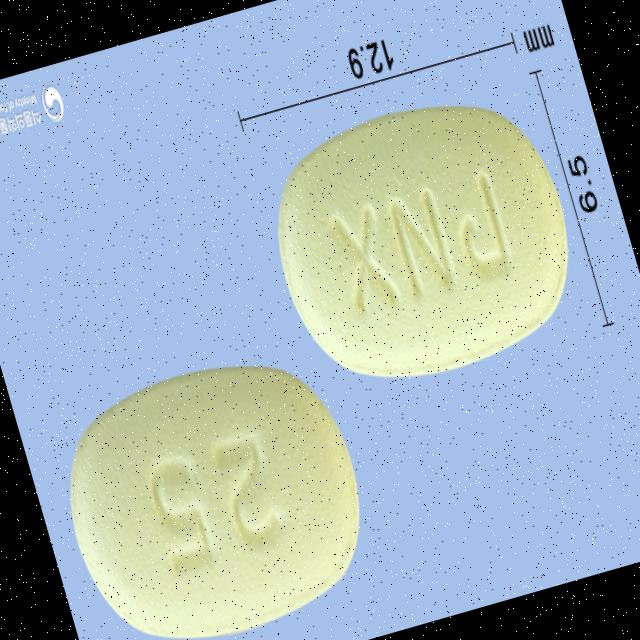Piclo Tab: (250, 79, 594, 404), (37, 335, 387, 640)
